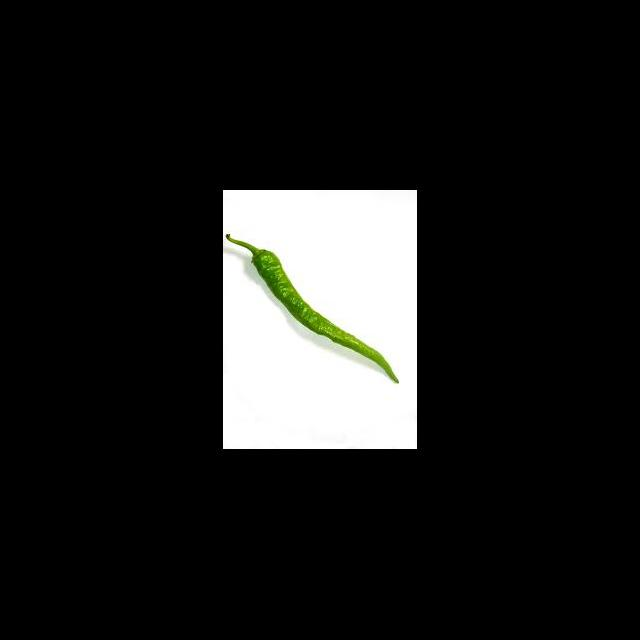chili_pepper: (225, 234, 399, 384)
